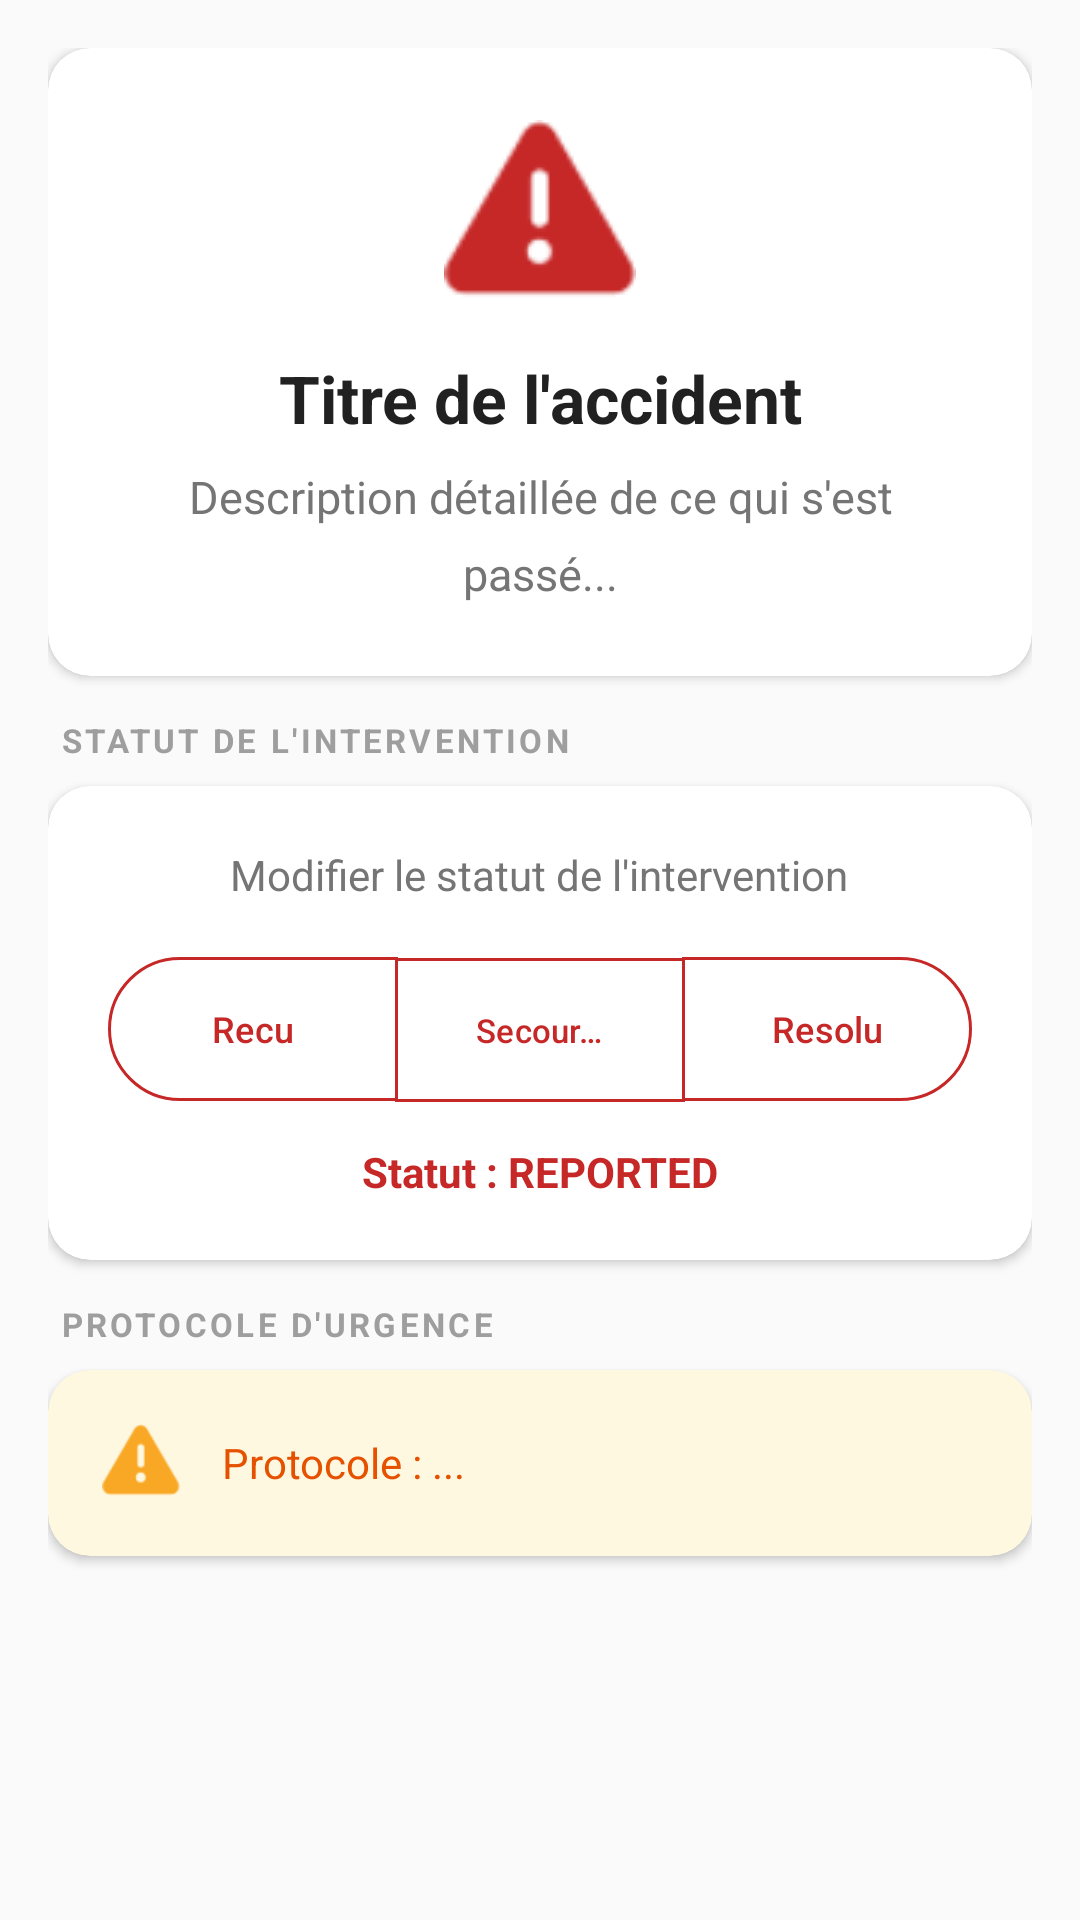

Icon bounding boxes for this 1080x1920 phone screenshot, format box(x1, y1, x2, y2):
alert: box(444, 120, 636, 295), box(102, 1424, 180, 1495)
